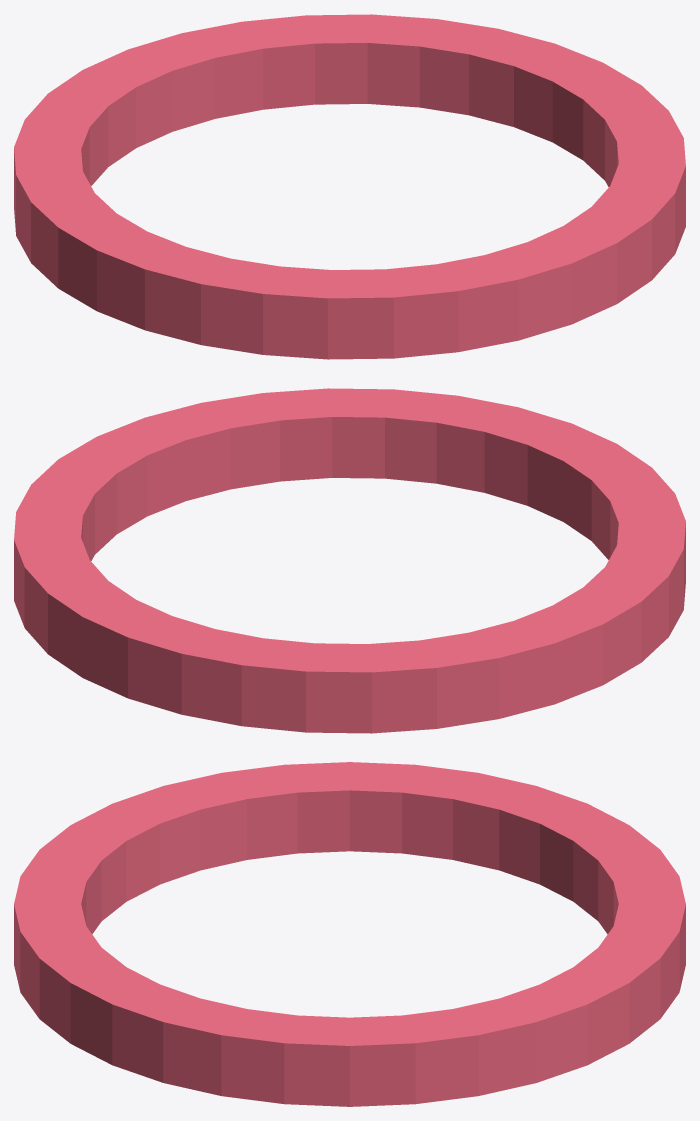
The model's file is Arc04.glb.
3 renders of one model, top to bottom at view 1: azimuth 30°, elevation 25°; view 2: azimuth 150°, elevation 25°; view 3: azimuth 270°, elevation 25°, orthographic.
Parts seen in each view (by area): view 1: Arc.04; view 2: Arc.04; view 3: Arc.04.
Part boxes in pixels (<box>): Arc.04: <box>14,14,685,359</box>; Arc.04: <box>14,388,685,733</box>; Arc.04: <box>14,762,685,1106</box>.
Bounding box in the file's own units: 10 × 1 × 10.
